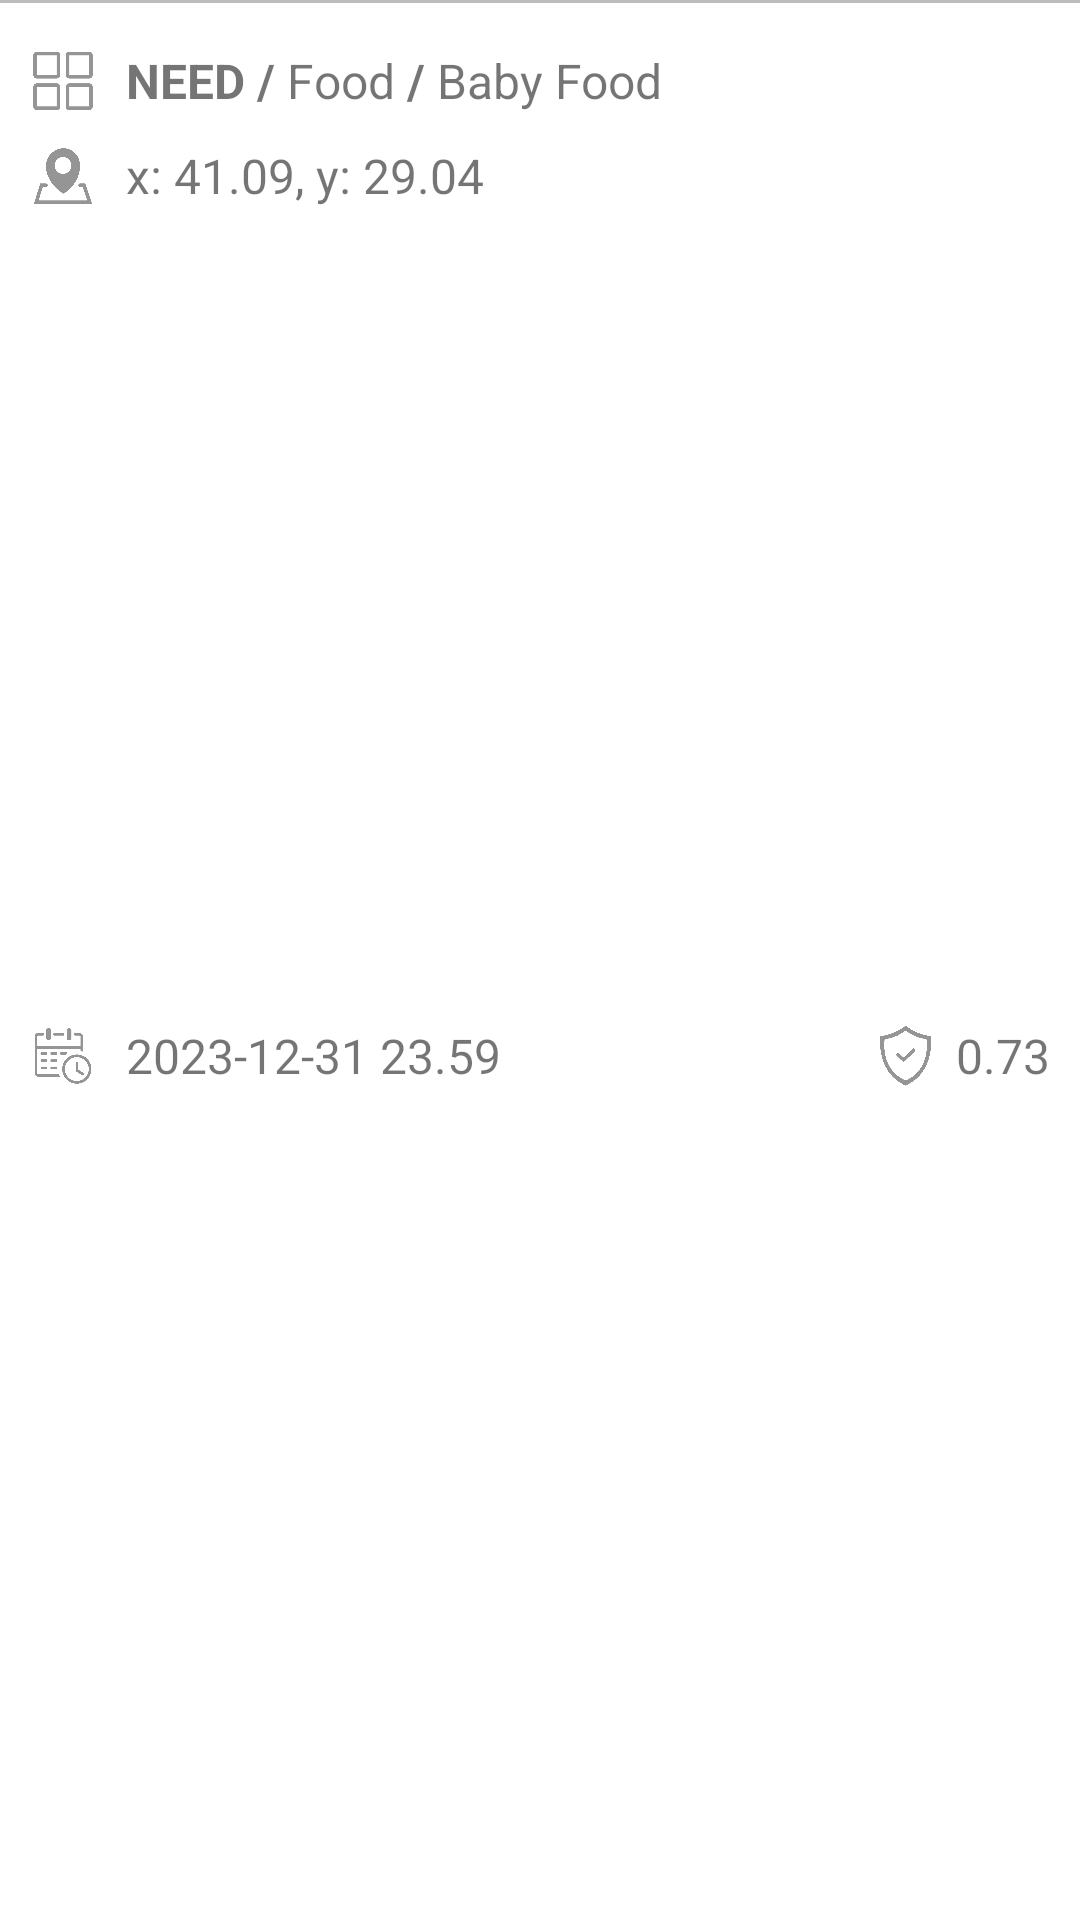

Point at icon controls on the screen. Image size 1080×1920, points as [x,y].
recyc category: [63,81]
recyc date time: [63,1056]
recyc location: [63,176]
recyc reliability: [905,1056]
